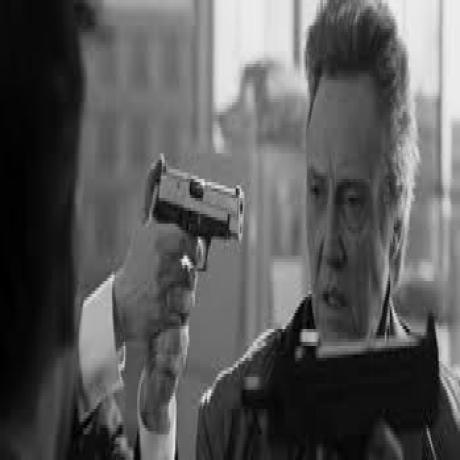Guns: (238, 315, 445, 441), (155, 146, 254, 286)
